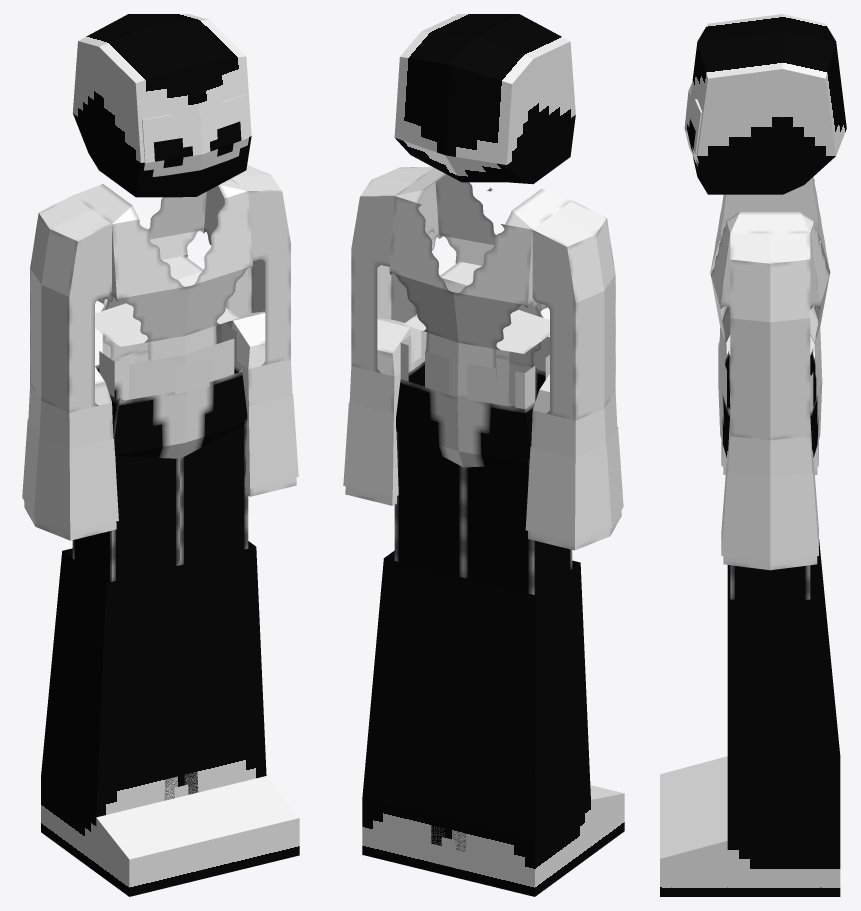
File: classic_costume_03.fbx
3 renders of one model, left to right at view 1: azimuth 30°, elevation 25°; view 2: azimuth 150°, elevation 25°; view 3: azimuth 270°, elevation 25°, orthographic.
Visible parts, largest first — view 1: right_shin_mesh_1, left_shin_mesh_1, hat_mesh, chest_mesh, right_arm_mesh, right_thigh_mesh, hip_mesh_1, left_thigh_mesh, right_forearm_mesh_1, left_arm_mesh, hip_mesh_2, mask_mesh (+4 smaller); view 2: right_shin_mesh_1, hat_mesh, left_shin_mesh_1, chest_mesh, right_arm_mesh, hip_mesh_1, right_thigh_mesh, left_arm_mesh, left_thigh_mesh, right_forearm_mesh_1, right_forearm_mesh, left_forearm_mesh_1 (+3 smaller); view 3: left_shin_mesh_1, hat_mesh, left_arm_mesh, left_forearm_mesh_1, chest_mesh, left_forearm_mesh, right_shin_mesh_1, left_thigh_mesh, right_arm_mesh, hip_mesh_1, hip_mesh, hip_mesh_2 (+1 smaller).
Part boxes in pixels (x1=…): right_shin_mesh_1: x1=41, y1=548, x2=231, y2=896; left_shin_mesh_1: x1=164, y1=541, x2=299, y2=879; hat_mesh: x1=72, y1=14, x2=251, y2=197; chest_mesh: x1=73, y1=178, x2=253, y2=346; right_arm_mesh: x1=30, y1=195, x2=111, y2=412; right_thigh_mesh: x1=72, y1=456, x2=179, y2=582; hip_mesh_1: x1=95, y1=350, x2=247, y2=458; left_thigh_mesh: x1=180, y1=423, x2=248, y2=565; right_forearm_mesh_1: x1=22, y1=419, x2=118, y2=532; left_arm_mesh: x1=215, y1=165, x2=290, y2=365; hip_mesh_2: x1=99, y1=323, x2=236, y2=399; mask_mesh: x1=142, y1=94, x2=248, y2=176; right_shin_mesh_1: x1=431, y1=560, x2=624, y2=896; hat_mesh: x1=394, y1=14, x2=575, y2=184; left_shin_mesh_1: x1=362, y1=550, x2=470, y2=879; chest_mesh: x1=389, y1=167, x2=571, y2=353; right_arm_mesh: x1=532, y1=200, x2=615, y2=420; hip_mesh_1: x1=396, y1=357, x2=545, y2=467; right_thigh_mesh: x1=463, y1=404, x2=572, y2=595; left_arm_mesh: x1=351, y1=166, x2=434, y2=373; left_thigh_mesh: x1=394, y1=432, x2=463, y2=577; right_forearm_mesh_1: x1=525, y1=427, x2=623, y2=542; right_forearm_mesh: x1=528, y1=374, x2=621, y2=550; left_forearm_mesh_1: x1=343, y1=402, x2=398, y2=497; left_shin_mesh_1: x1=660, y1=559, x2=840, y2=896; hat_mesh: x1=686, y1=14, x2=846, y2=194; left_arm_mesh: x1=730, y1=233, x2=810, y2=440; left_forearm_mesh_1: x1=721, y1=450, x2=818, y2=561; chest_mesh: x1=710, y1=177, x2=830, y2=355; left_forearm_mesh: x1=723, y1=416, x2=817, y2=570; right_shin_mesh_1: x1=660, y1=539, x2=840, y2=824; left_thigh_mesh: x1=730, y1=565, x2=810, y2=599; right_arm_mesh: x1=730, y1=181, x2=810, y2=217; hip_mesh_1: x1=718, y1=351, x2=822, y2=457; hip_mesh: x1=719, y1=307, x2=822, y2=411; hip_mesh_2: x1=718, y1=341, x2=820, y2=411.
Bounding box in the file's own units: 96.88 × 283 × 58.29.
7 materials, 7 textured.
